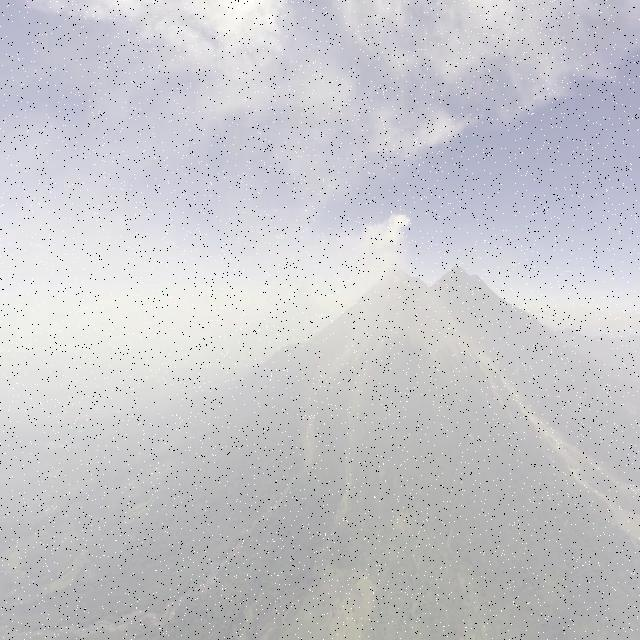Plume: (357, 208, 410, 269)
Summit: (378, 260, 412, 280)
